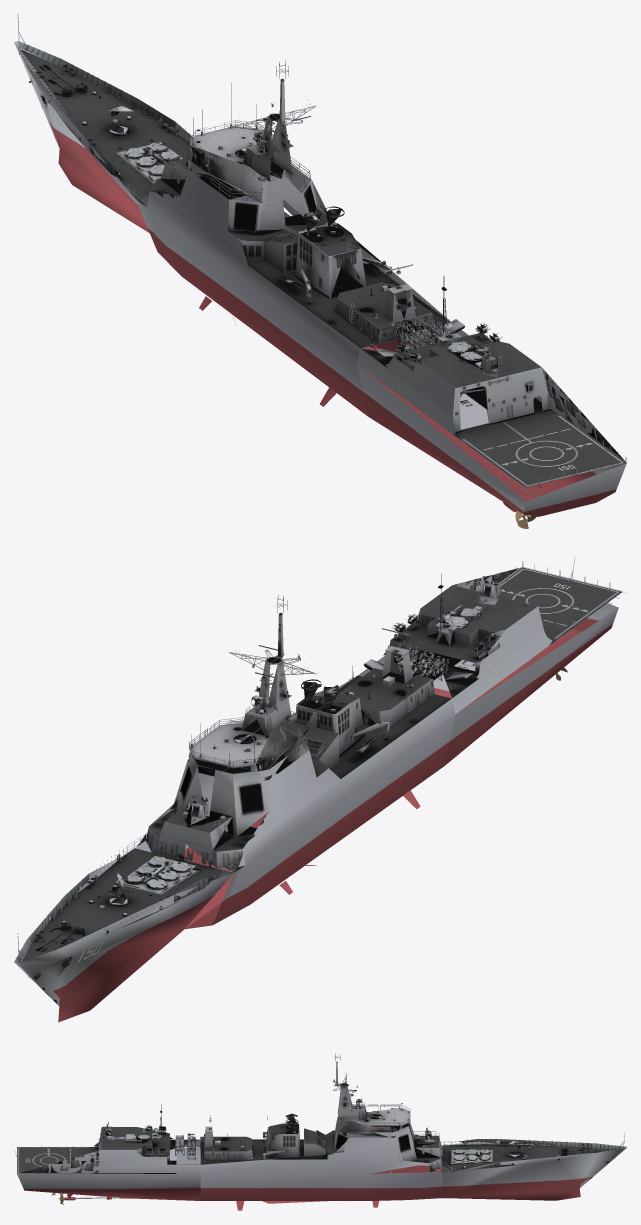
3 views of the same model, one above another, from view 1: azimuth 30°, elevation 25°; view 2: azimuth 150°, elevation 25°; view 3: azimuth 270°, elevation 25° (orthographic). The views are drawn at different scales.
Parts seen in each view (by area): view 1: Object_24, Object_13, Object_10, Object_19; view 2: Object_24, Object_13, Object_10, Object_19; view 3: Object_19, Object_13, Object_10, Object_24.
Boxes of the visible parts, x1,y1,x2,y2 form: Object_24: [135, 60, 404, 416]; Object_13: [199, 276, 626, 528]; Object_10: [14, 14, 503, 377]; Object_19: [188, 82, 450, 412]; Object_24: [185, 594, 455, 929]; Object_13: [257, 557, 626, 894]; Object_10: [14, 575, 500, 1022]; Object_19: [135, 628, 401, 928]; Object_19: [200, 1084, 442, 1200]; Object_13: [14, 1104, 379, 1210]; Object_10: [102, 1097, 626, 1200]; Object_24: [200, 1053, 442, 1173].
Bounding box in the file's own units: 16.89 × 41.38 × 155.
Materials: 8 (7 with a texture image).
